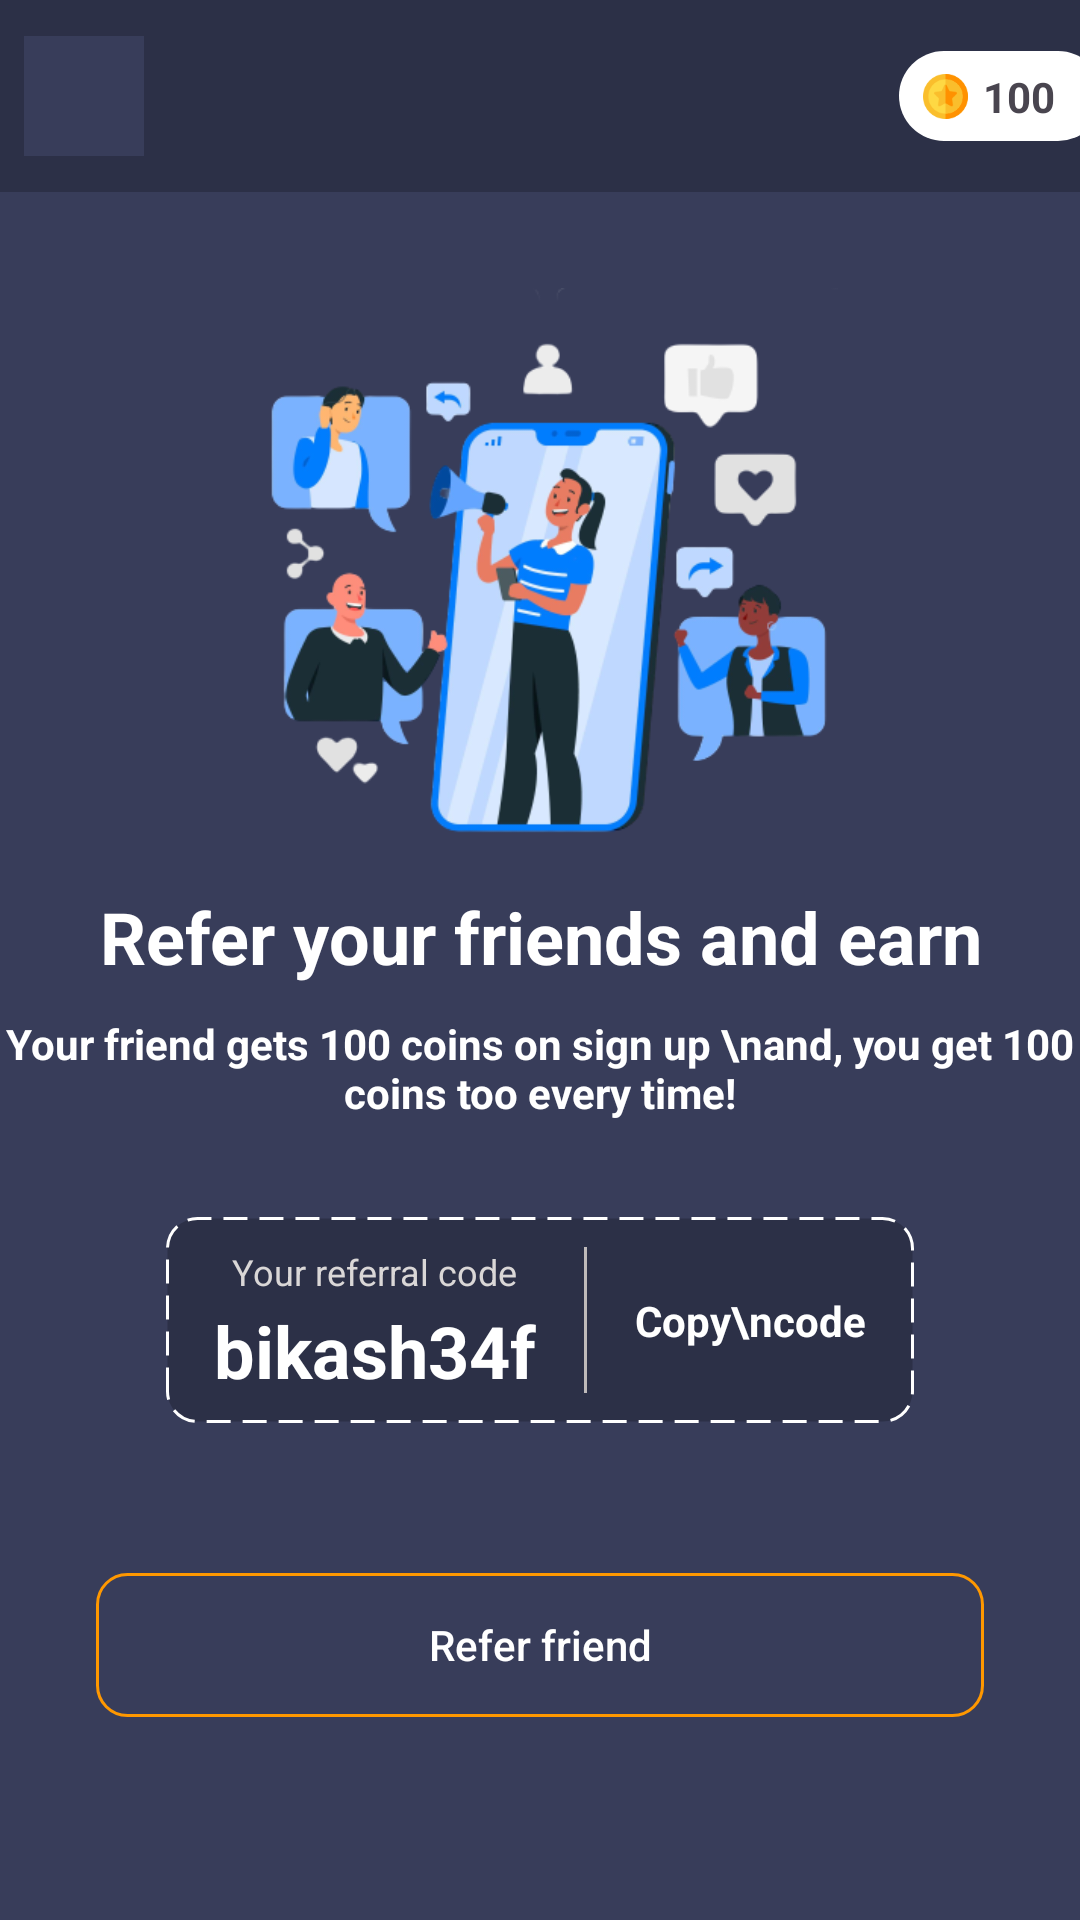

Icon bounding boxes for this 1080×1920 phone screenshot, format box(x1, y1, x2, y2):
coin: box(923, 74, 968, 119)
